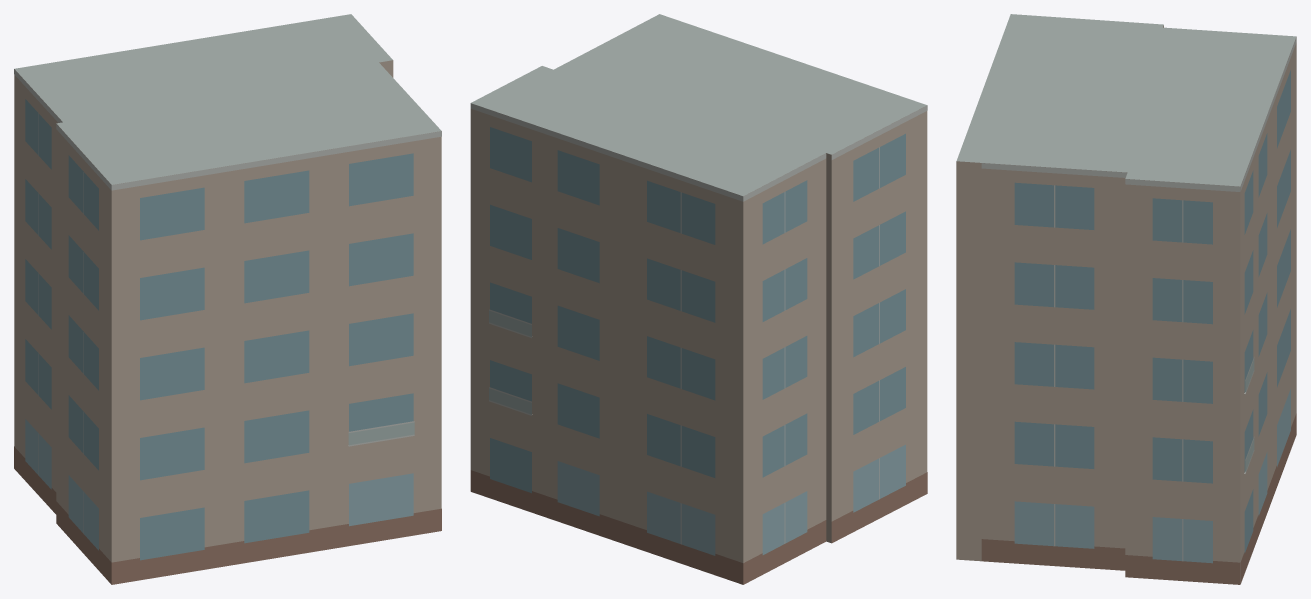
Rendered from survey-upis-32870705.glb.
The picture shows the model from 3 angles, left to right: view 1: azimuth 30°, elevation 25°; view 2: azimuth 150°, elevation 25°; view 3: azimuth 270°, elevation 25°; orthographic projection. The views are drawn at different scales.
Visible parts, largest first — view 1: survey-upis-32870705.tmp; view 2: survey-upis-32870705.tmp; view 3: survey-upis-32870705.tmp.
Boxes of the visible parts, x1,y1,x2,y2 form: survey-upis-32870705.tmp: (14,14,441,584); survey-upis-32870705.tmp: (470,14,927,584); survey-upis-32870705.tmp: (956,14,1296,584).
Bounding box in the file's own units: 16.08 × 17.3 × 13.4.
